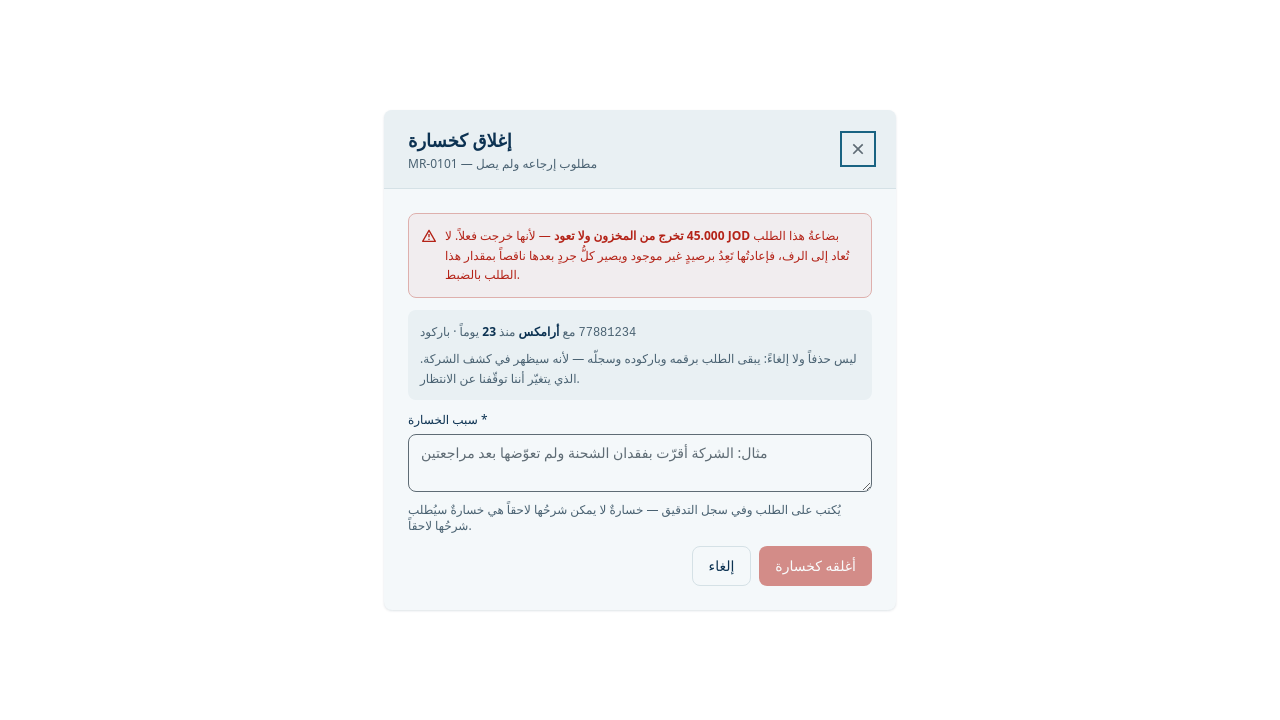
Test: what reaches the door › and a refusal is shown rather than swallowed, with the door’s own words
In the text box labelled "سبب الخسارة *": x=640, y=463 [408,434,872,492], type "فقدان الشحنة"
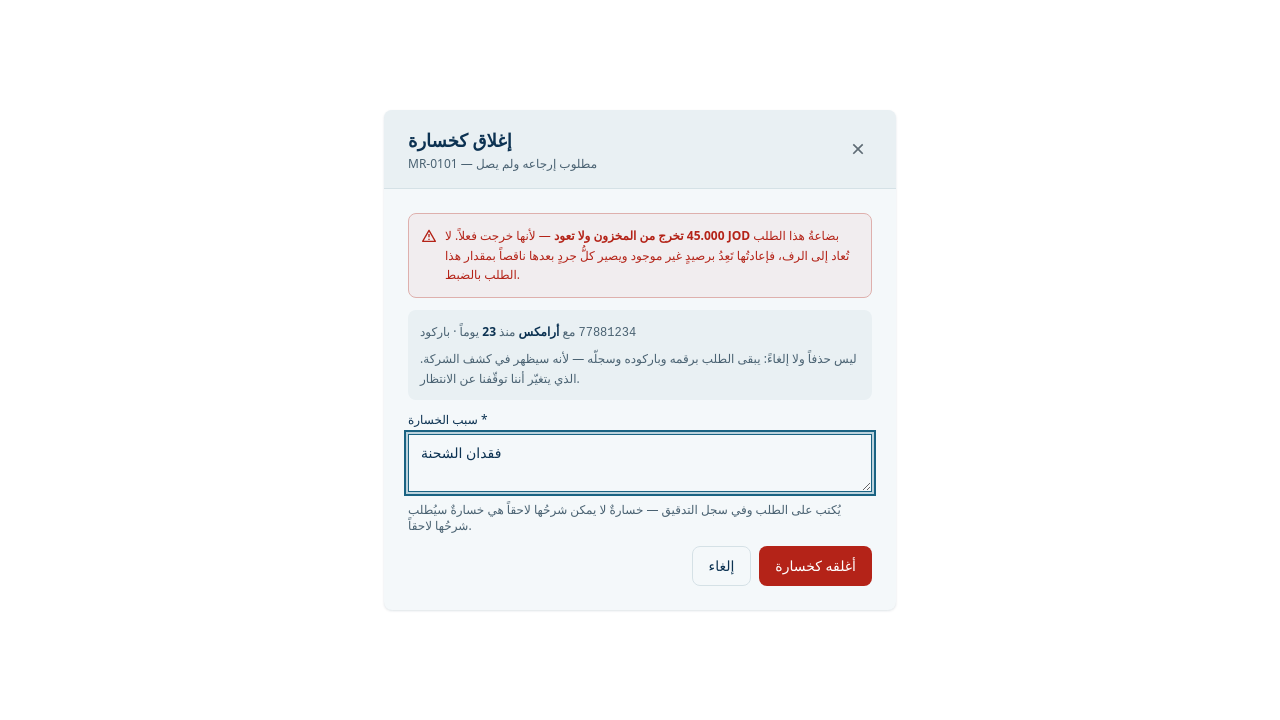
Click the submit button: x=816, y=566 [759,546,872,586]
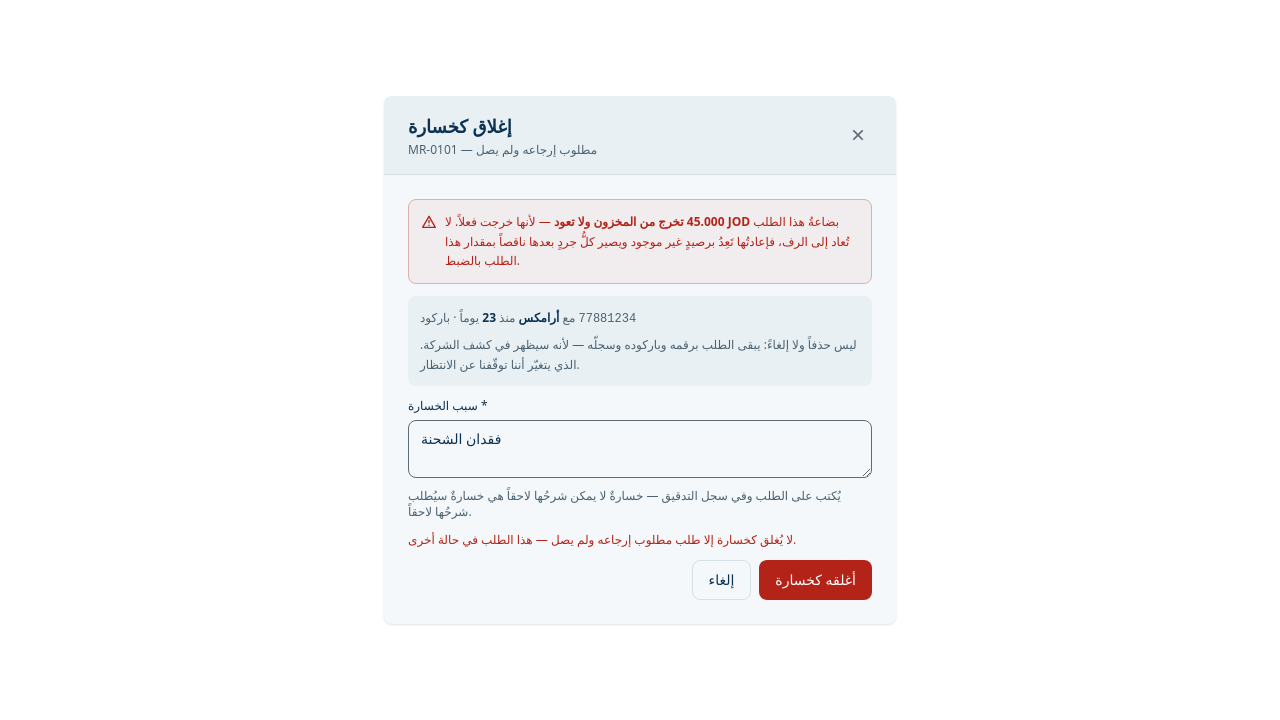
Result: the text "هذا الطلب في حالة أخرى" is shown at [408,531,796,548]
